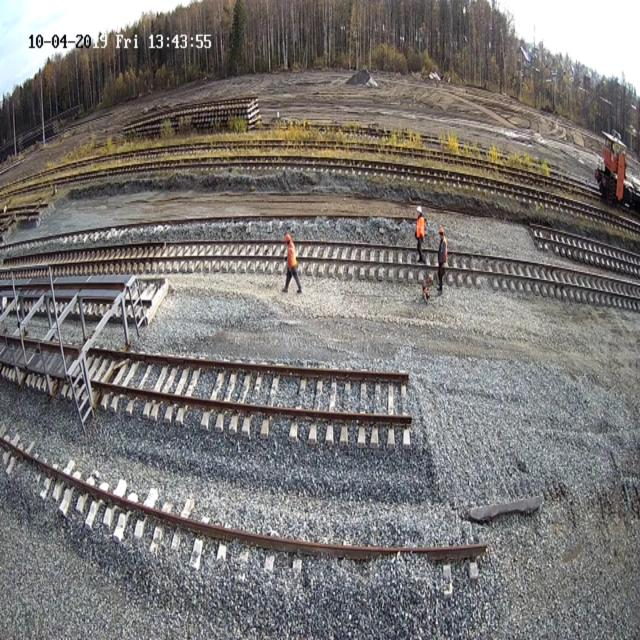Helmet: (416, 205, 422, 213), (438, 228, 444, 235), (285, 234, 290, 242)
Person: (281, 234, 302, 294), (436, 228, 448, 292), (415, 205, 426, 263)
